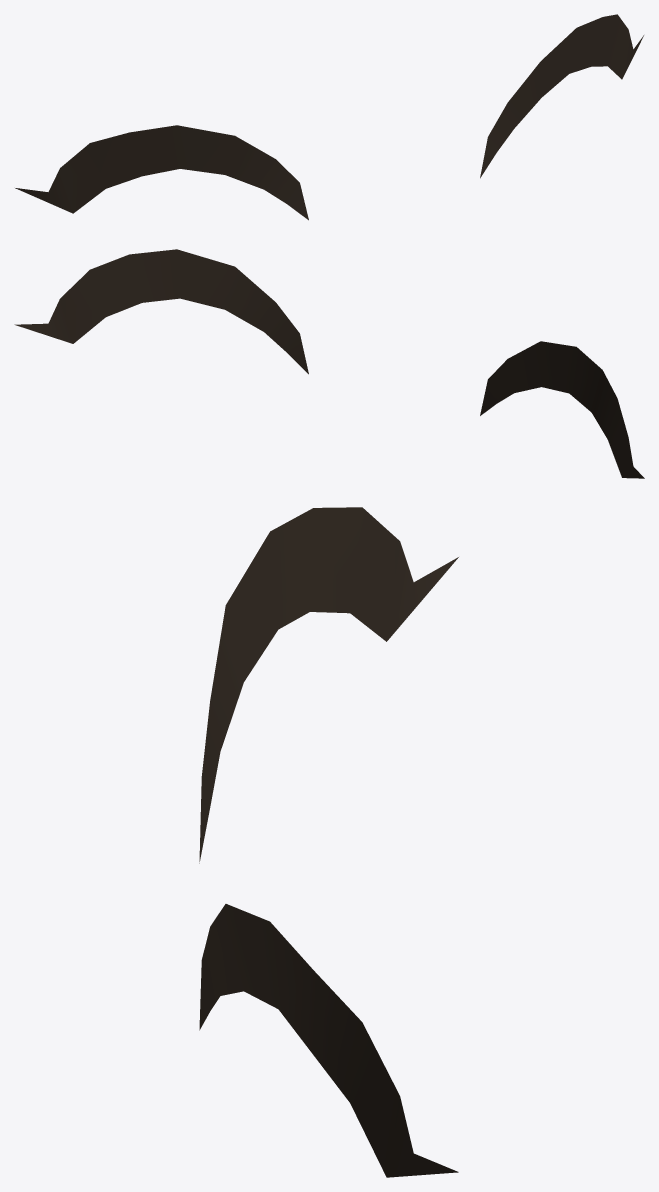
The model's file is Eye_9.fbx.
The picture shows the model from 3 angles, top to bottom: view 1: azimuth 30°, elevation 25°; view 2: azimuth 150°, elevation 25°; view 3: azimuth 270°, elevation 25°; orthographic projection. The views are drawn at different scales.
Parts seen in each view (by area): view 1: Eye_9; view 2: Eye_9; view 3: Eye_9.
Boxes of the visible parts, left/top/right/bottom form: Eye_9: left=15, top=14, right=643, bottom=220; Eye_9: left=14, top=249, right=644, bottom=478; Eye_9: left=199, top=507, right=458, bottom=1177.
Size of the model in its own units: 38.7 by 6.47 by 6.91.
